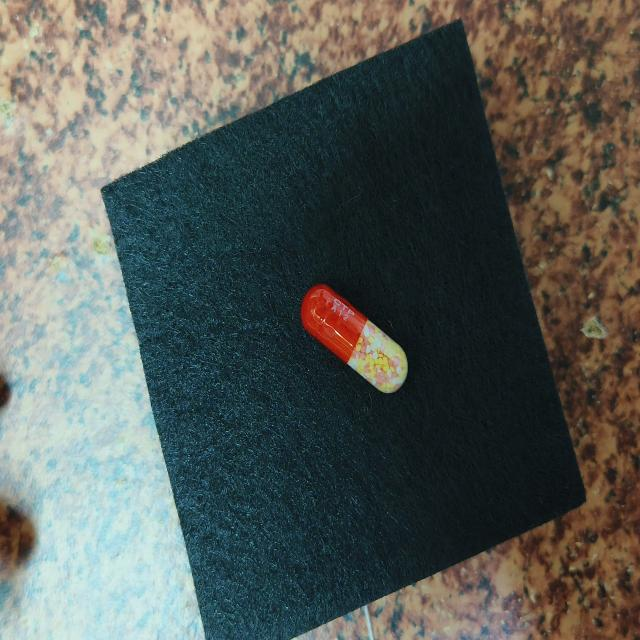Intact Capsule: (301, 284, 408, 393)
